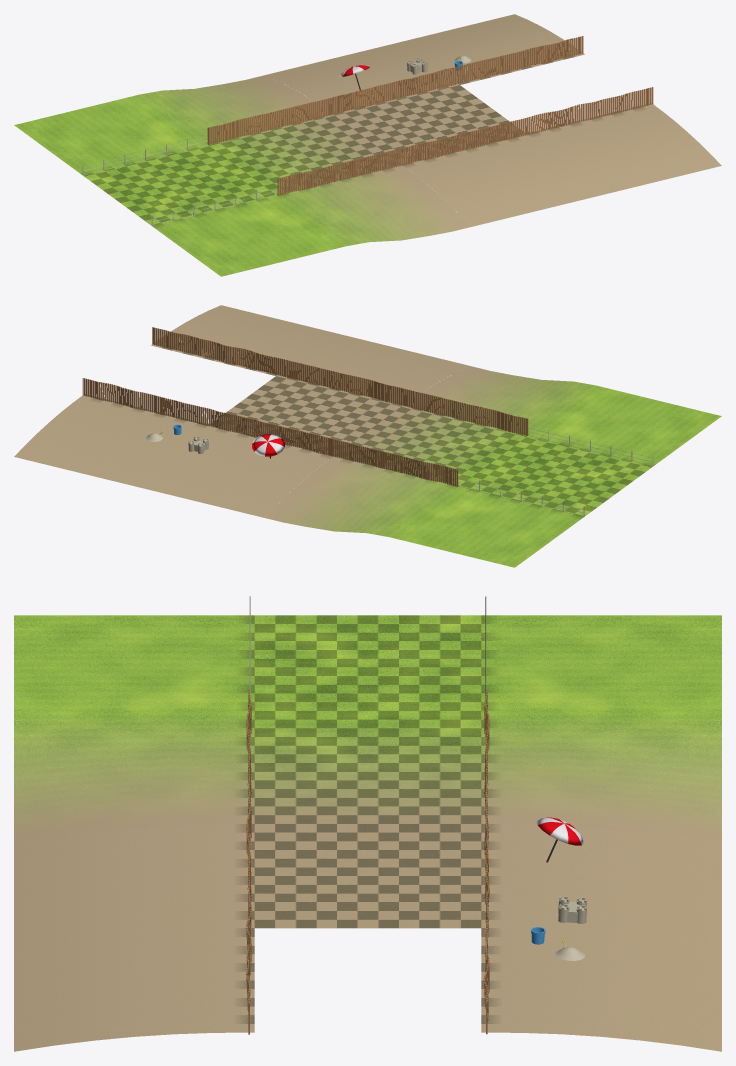
The model's file is beachworld.glb.
3 renders of one model, top to bottom at view 1: azimuth 30°, elevation 25°; view 2: azimuth 150°, elevation 25°; view 3: azimuth 270°, elevation 25°, orthographic. The views are drawn at different scales.
Visible parts, largest first — view 1: field_beach, field_grass_beach, tile_grass, tile_grass_beach, tile_beach; view 2: field_beach, field_grass_beach, tile_grass, tile_grass_beach, tile_beach, umbrella; view 3: field_grass_beach, field_beach, tile_grass, tile_grass_beach, tile_beach, umbrella.
Boxes of the visible parts, x1,y1,x2,y2 form: field_beach: (265, 14, 721, 226); field_grass_beach: (14, 75, 470, 276); tile_grass: (85, 146, 275, 224); tile_grass_beach: (210, 115, 399, 194); tile_beach: (335, 85, 524, 163); field_beach: (14, 305, 470, 517); field_grass_beach: (265, 366, 721, 567); tile_grass: (460, 437, 650, 515); tile_grass_beach: (336, 406, 525, 485); tile_beach: (210, 376, 400, 454); umbrella: (252, 434, 284, 458); field_grass_beach: (14, 596, 721, 842); field_beach: (14, 794, 721, 1051); tile_grass: (254, 615, 481, 719); tile_grass_beach: (254, 719, 481, 823); tile_beach: (254, 824, 481, 928); umbrella: (536, 817, 584, 862).
Bounding box in the file's own units: 96.08 × 6.26 × 68.81.
Materials: 14 (7 with a texture image).
